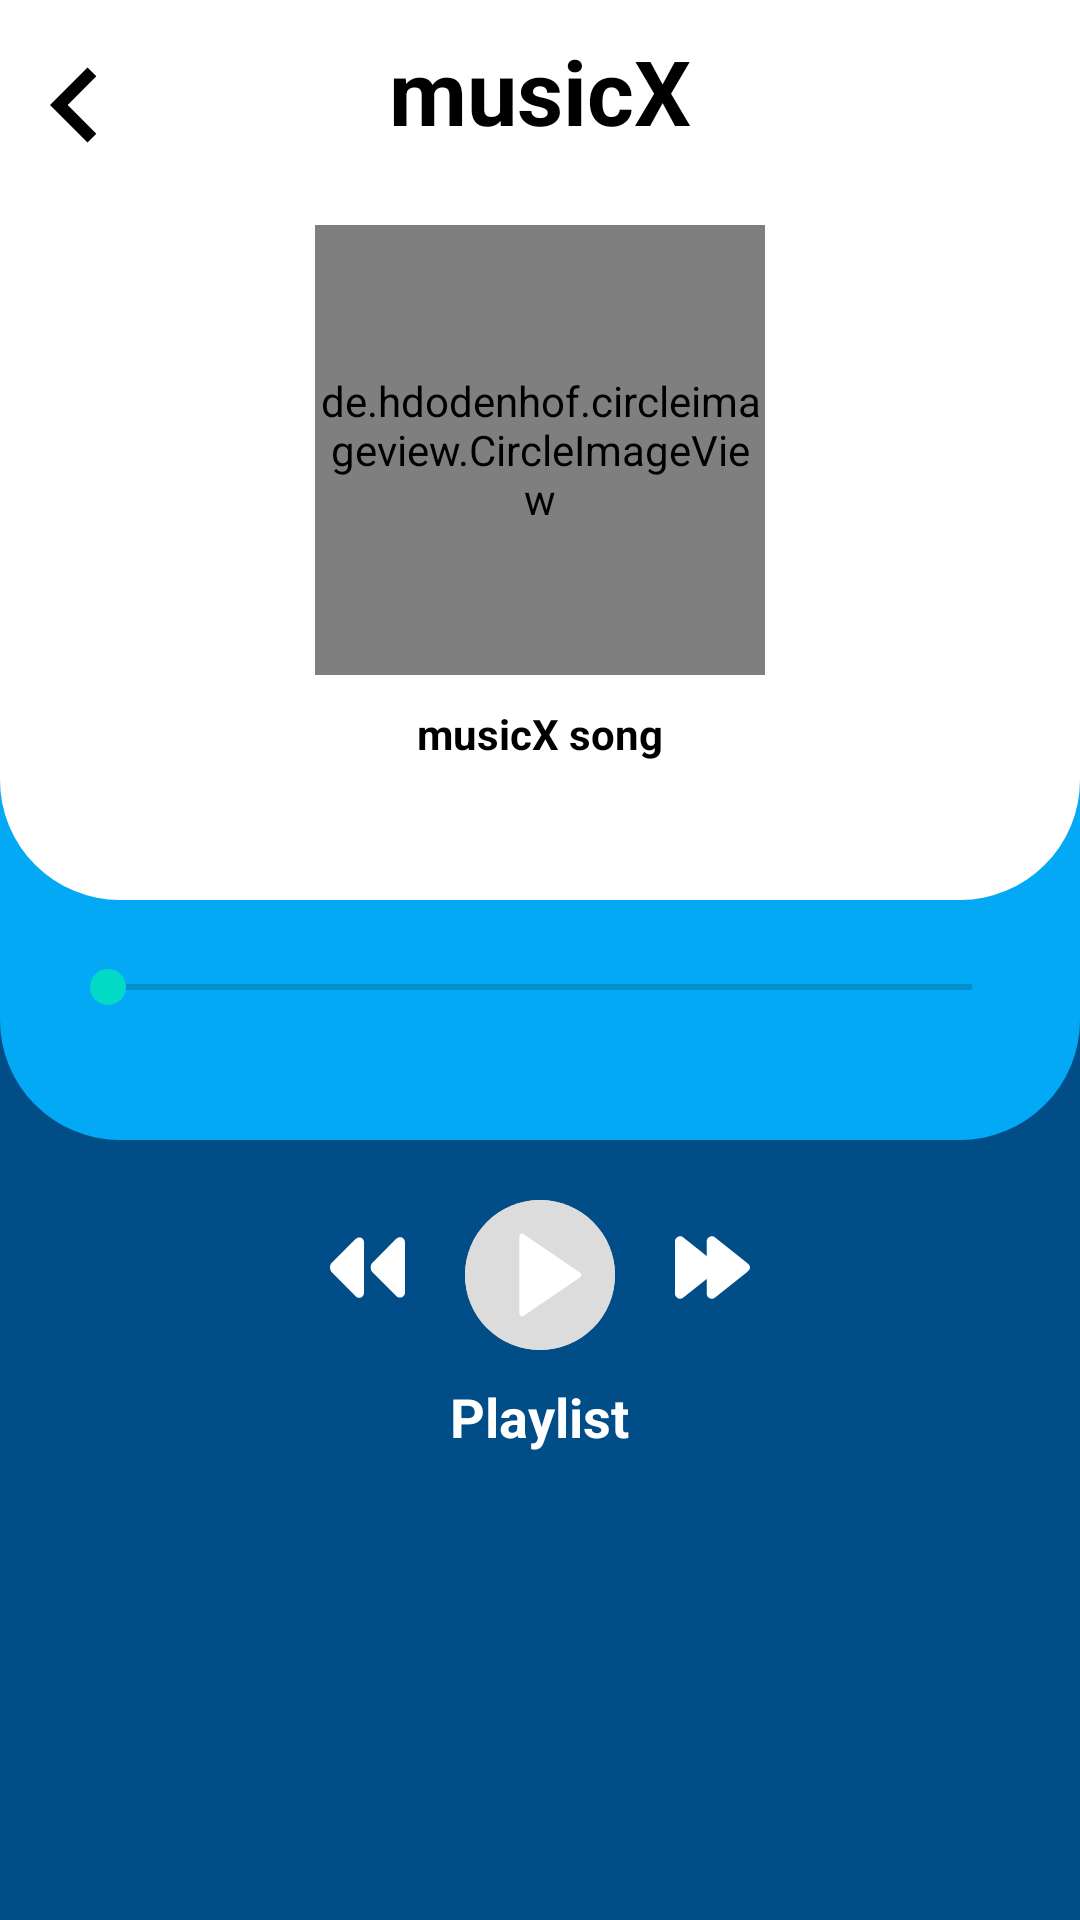

Locate icon controls on the screen. Image size 1080*1920, boxes as (left=x1, top=y1, right=x2, bottom=y2).
arrow left: (left=50, top=67, right=96, bottom=143)
next: (left=675, top=1236, right=750, bottom=1299)
prev: (left=330, top=1237, right=405, bottom=1298)
